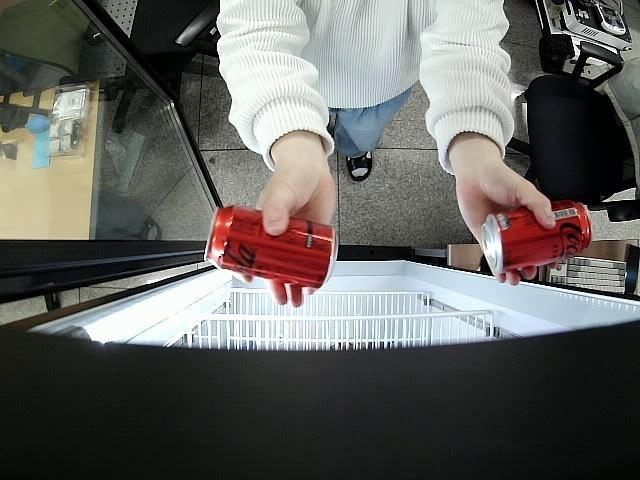11_cocaColaZero: (202, 202, 338, 290), (481, 202, 592, 278)
